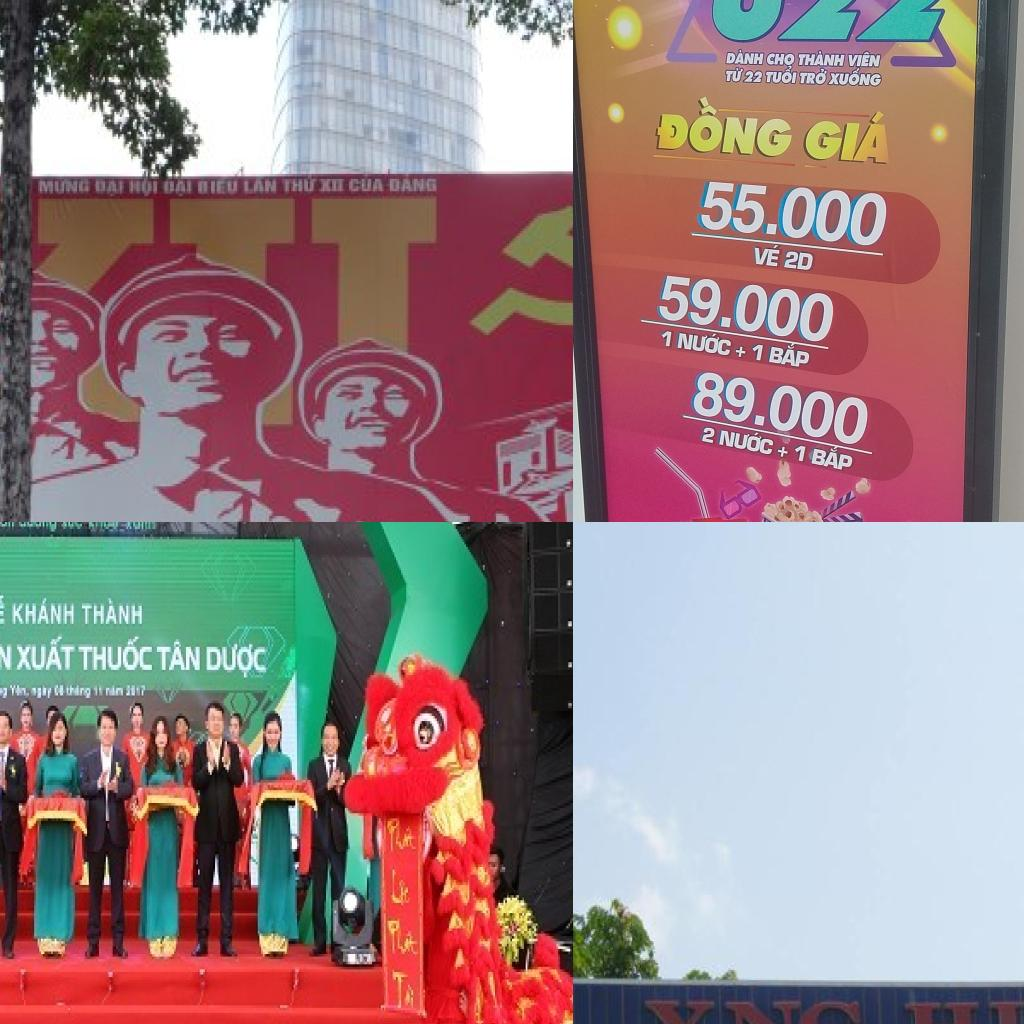text: (688, 368, 876, 448), (696, 178, 894, 248), (656, 272, 838, 345), (708, 0, 964, 46), (653, 91, 801, 160), (641, 995, 870, 1024), (802, 104, 891, 166), (901, 997, 1024, 1024), (77, 637, 155, 675), (78, 593, 147, 632), (203, 642, 270, 682), (15, 634, 77, 672), (10, 596, 77, 629), (384, 913, 423, 962), (718, 426, 776, 456), (384, 811, 420, 859), (386, 970, 423, 1016), (156, 639, 202, 675), (676, 328, 733, 356), (384, 864, 416, 908), (810, 443, 855, 474), (768, 341, 812, 370), (827, 66, 883, 88), (388, 174, 442, 196), (36, 179, 94, 199), (196, 179, 241, 201), (796, 49, 848, 68), (349, 174, 388, 196), (282, 176, 319, 199), (724, 47, 766, 67), (753, 242, 782, 270), (763, 65, 800, 86), (243, 179, 278, 201), (127, 179, 161, 201), (94, 179, 127, 201), (782, 250, 815, 272), (317, 176, 347, 199), (163, 179, 194, 201), (65, 680, 94, 703), (847, 50, 883, 68), (797, 67, 829, 87), (29, 680, 55, 703), (17, 522, 59, 536), (0, 636, 15, 675), (8, 680, 30, 703), (765, 51, 796, 66), (126, 680, 148, 701), (123, 522, 159, 534), (87, 522, 121, 534), (723, 66, 745, 84), (106, 682, 126, 700), (792, 443, 808, 464), (742, 69, 764, 84), (750, 342, 765, 363), (701, 426, 717, 445), (659, 329, 674, 349), (61, 522, 83, 534), (54, 680, 66, 701), (92, 682, 106, 700), (0, 680, 10, 703), (0, 593, 6, 629), (734, 344, 748, 359), (776, 445, 790, 459), (0, 522, 17, 531)
